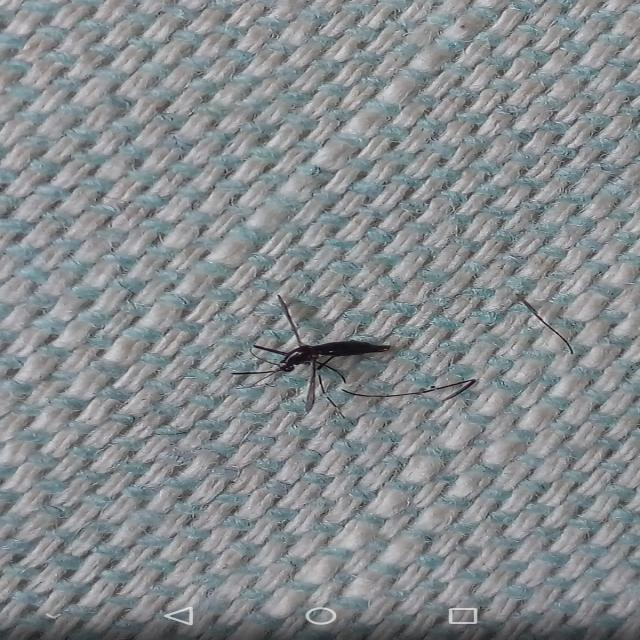albopictus: (217, 312, 457, 408)
